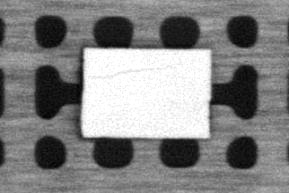DIE_CRACK: (88, 64, 167, 79)
